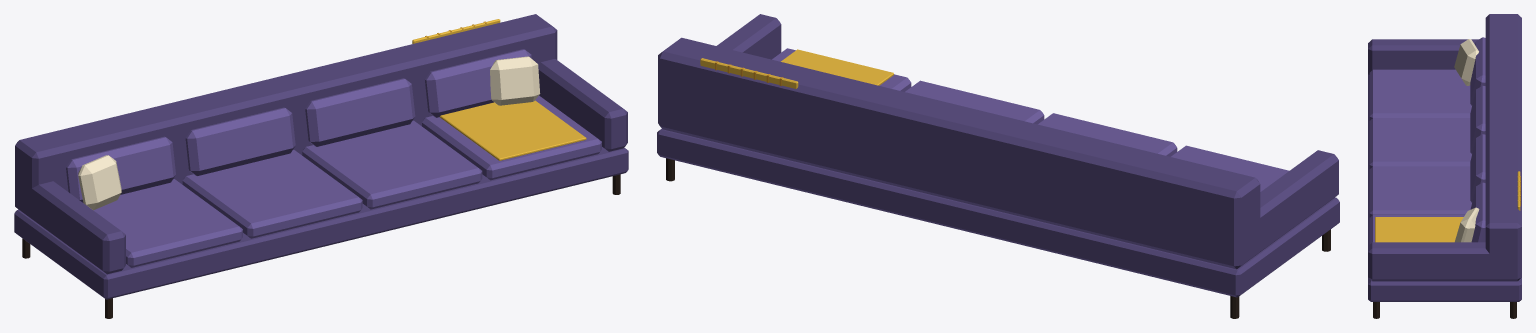
File: sofa.fbx
3 views of the same model, side by side, from view 1: azimuth 30°, elevation 25°; view 2: azimuth 150°, elevation 25°; view 3: azimuth 270°, elevation 25° (orthographic). The views are drawn at different scales.
Visible parts, largest first — view 1: sofa; view 2: sofa; view 3: sofa.
Part boxes in pixels (x1,y1,x2,y2): sofa: (14,14,628,318); sofa: (657,14,1339,318); sofa: (1368,14,1521,318).
Bounding box in the file's own units: 3.6 × 0.78 × 1.1.
